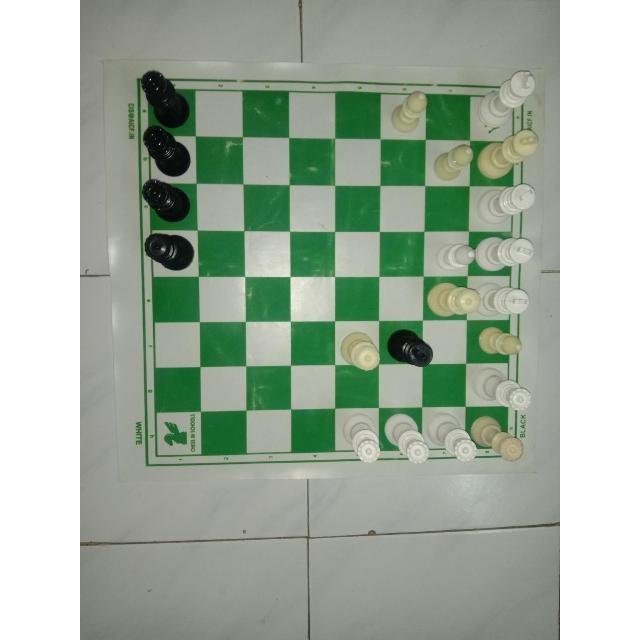black-king: (383, 325, 437, 369)
black-queen: (141, 65, 193, 131), (139, 123, 195, 179), (135, 177, 195, 224), (140, 228, 200, 275)
white-bishop: (388, 88, 428, 137), (430, 236, 477, 275), (429, 142, 472, 184), (476, 324, 524, 359)
white-king: (475, 126, 540, 184), (476, 69, 537, 127), (476, 180, 539, 228), (474, 232, 536, 276), (470, 279, 534, 319)
white-queen: (467, 364, 535, 412), (424, 408, 480, 466), (469, 410, 529, 464), (380, 410, 432, 467), (424, 277, 485, 325), (337, 410, 384, 467), (335, 328, 383, 374)
